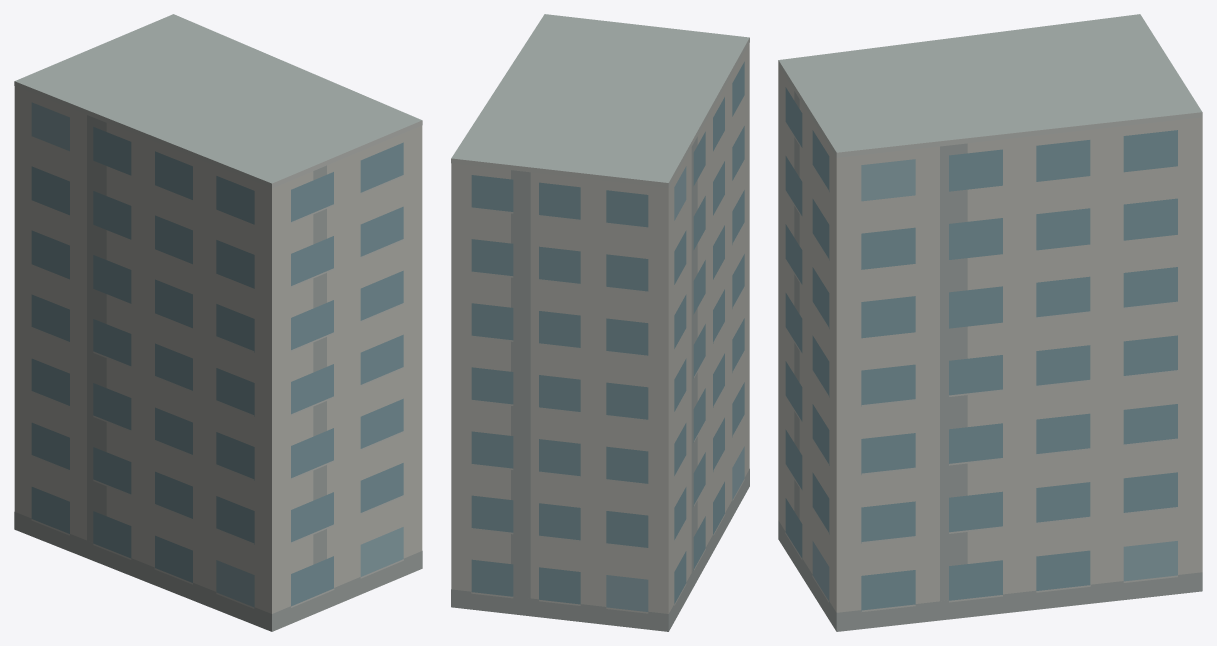
Rendered from survey-upis-32971222.glb.
3 views of the same model, side by side, from view 1: azimuth 30°, elevation 25°; view 2: azimuth 150°, elevation 25°; view 3: azimuth 270°, elevation 25° (orthographic). The views are drawn at different scales.
Parts seen in each view (by area): view 1: survey-upis-32971222.tmp; view 2: survey-upis-32971222.tmp; view 3: survey-upis-32971222.tmp.
Boxes of the visible parts, x1,y1,x2,y2 form: survey-upis-32971222.tmp: (14, 14, 422, 631); survey-upis-32971222.tmp: (451, 14, 749, 631); survey-upis-32971222.tmp: (778, 14, 1202, 631).
Size of the model in its own units: 13.78 by 22.18 by 17.8.
